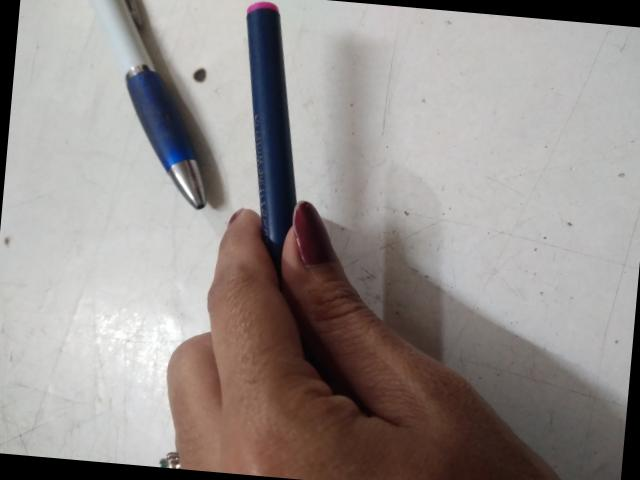PEN: (169, 205, 481, 352), (242, 96, 492, 236)
